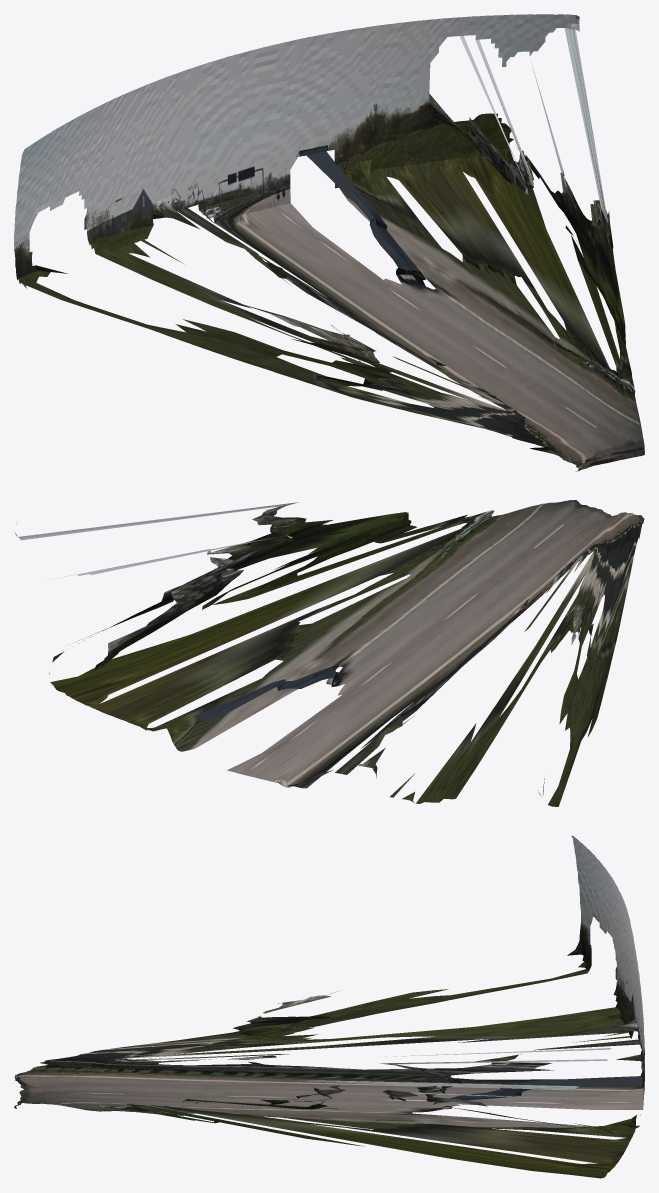
3 renders of one model, top to bottom at view 1: azimuth 30°, elevation 25°; view 2: azimuth 150°, elevation 25°; view 3: azimuth 270°, elevation 25°, orthographic. The views are drawn at different scales.
Visible parts, largest first — view 1: defaultobject; view 2: defaultobject; view 3: defaultobject.
Part boxes in pixels (box(x1,y1,x2,y2)): defaultobject: box(14, 14, 644, 471); defaultobject: box(14, 500, 644, 806); defaultobject: box(14, 835, 644, 1178).
Bounding box in the file's own units: 40.86 × 12.07 × 44.39.
1 material, 1 textured.
